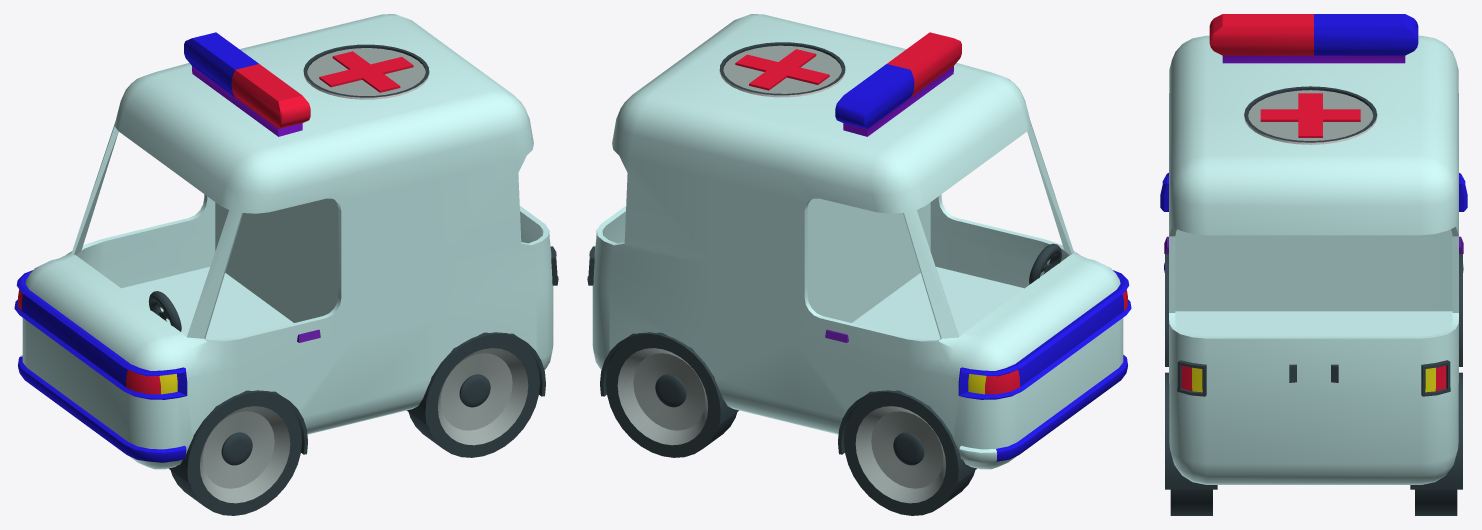
File: Car2 (2).fbx
The picture shows the model from 3 angles, left to right: view 1: azimuth 30°, elevation 25°; view 2: azimuth 150°, elevation 25°; view 3: azimuth 270°, elevation 25°; orthographic projection. The views are drawn at different scales.
Visible parts, largest first — view 1: Cube; view 2: Cube; view 3: Cube.
Boxes of the visible parts, box(x1,y1,x2,y2) form: Cube: box(14, 14, 558, 515); Cube: box(587, 14, 1131, 515); Cube: box(1160, 14, 1467, 515).
Bounding box in the file's own units: 380 × 320 × 222.
